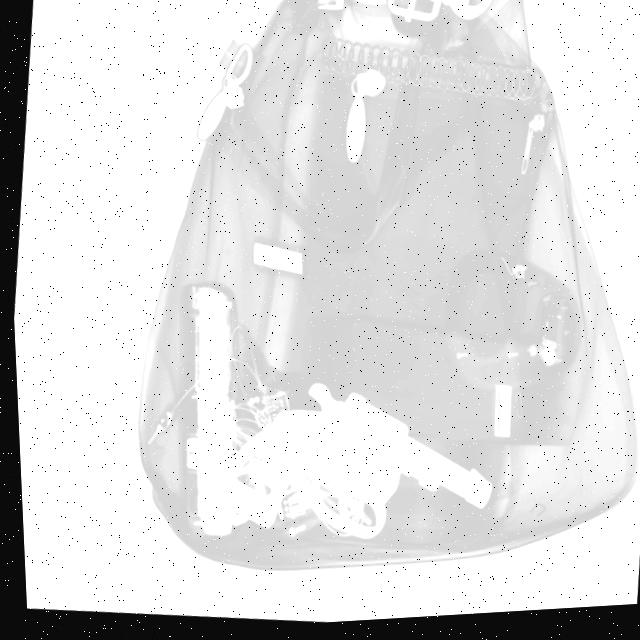pistol: (211, 369, 497, 561)
